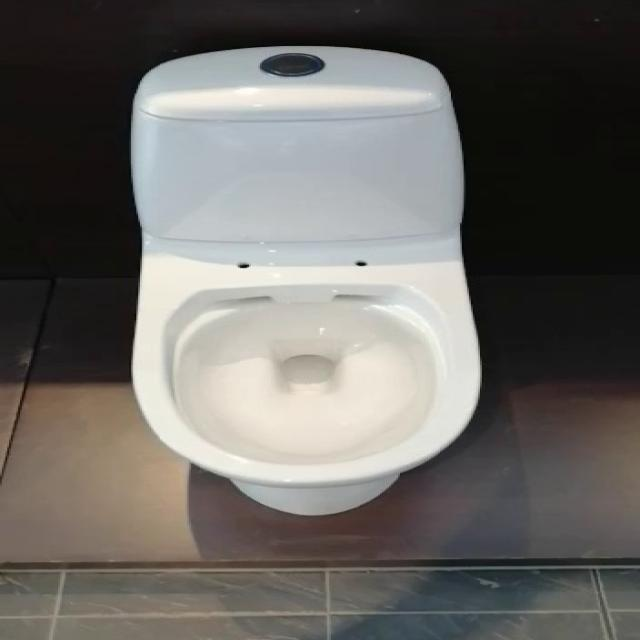toilet: (127, 45, 482, 516)
